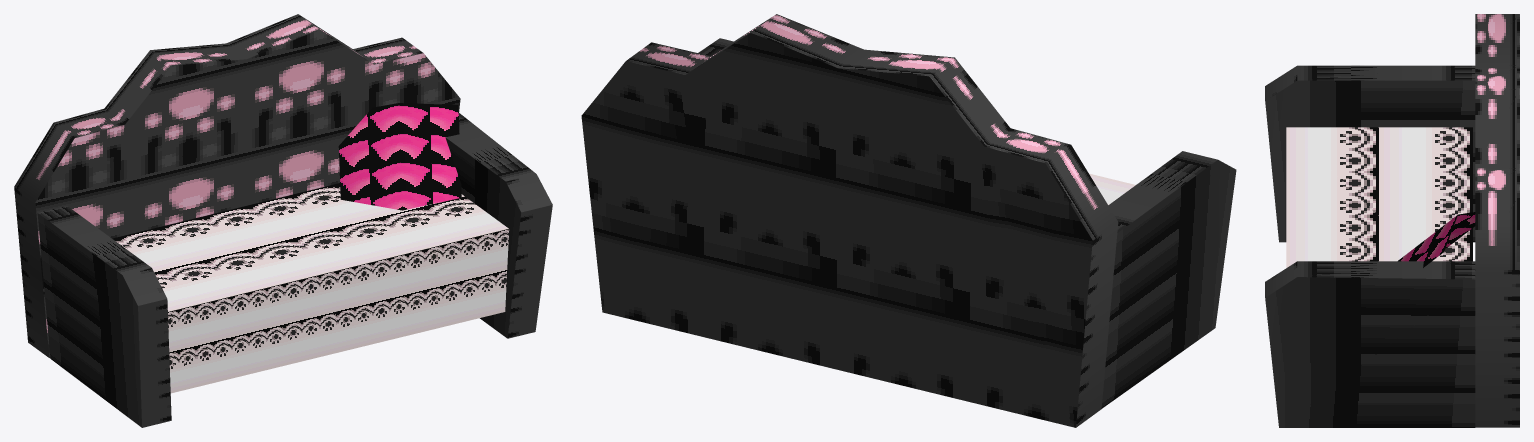
3 views of the same model, side by side, from view 1: azimuth 30°, elevation 25°; view 2: azimuth 150°, elevation 25°; view 3: azimuth 270°, elevation 25° (orthographic). The views are drawn at different scales.
Parts seen in each view (by area): view 1: 3923kg3_dl05; view 2: 3923kg3_dl05; view 3: 3923kg3_dl05.
Boxes of the visible parts, x1,y1,x2,y2 form: 3923kg3_dl05: [14, 14, 552, 427]; 3923kg3_dl05: [581, 14, 1236, 427]; 3923kg3_dl05: [1265, 14, 1519, 427].
Size of the model in its own units: 1.84 by 1.09 by 0.9131.
4 materials, 4 textured.
